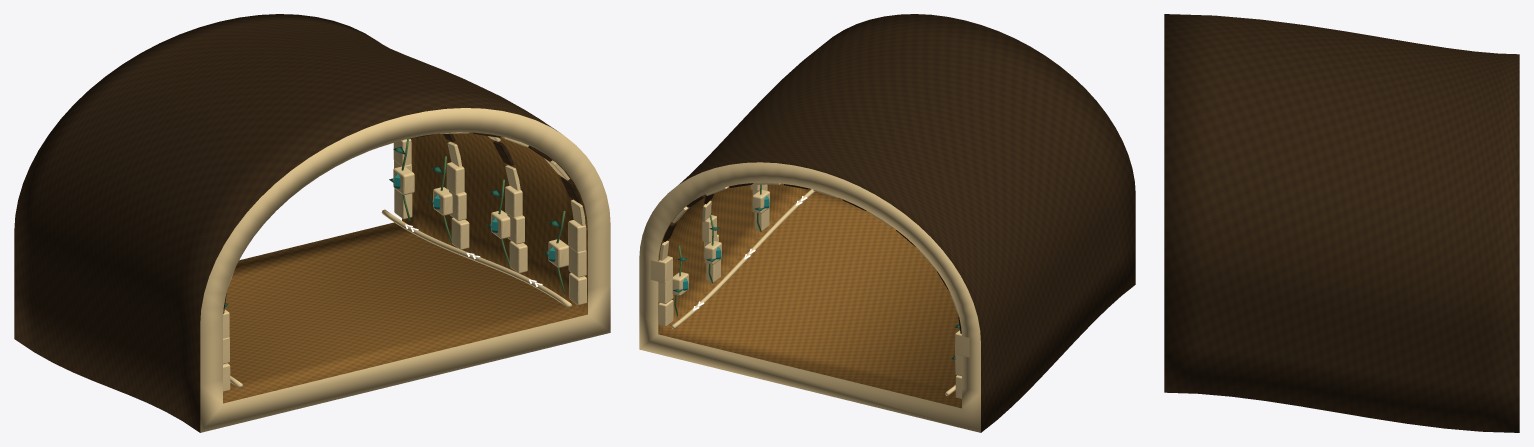
Rendered from grade_down.glb.
The picture shows the model from 3 angles, left to right: view 1: azimuth 30°, elevation 25°; view 2: azimuth 150°, elevation 25°; view 3: azimuth 270°, elevation 25°; orthographic projection. The views are drawn at different scales.
Parts seen in each view (by area): view 1: TunnelGeometry; view 2: TunnelGeometry; view 3: TunnelGeometry.
Boxes of the visible parts, <box> form: TunnelGeometry: <box>14,14,610,432</box>; TunnelGeometry: <box>639,14,1135,432</box>; TunnelGeometry: <box>1164,14,1519,432</box>.
Size of the model in its own units: 15.3 by 11.02 by 12.
7 materials, 2 textured.
